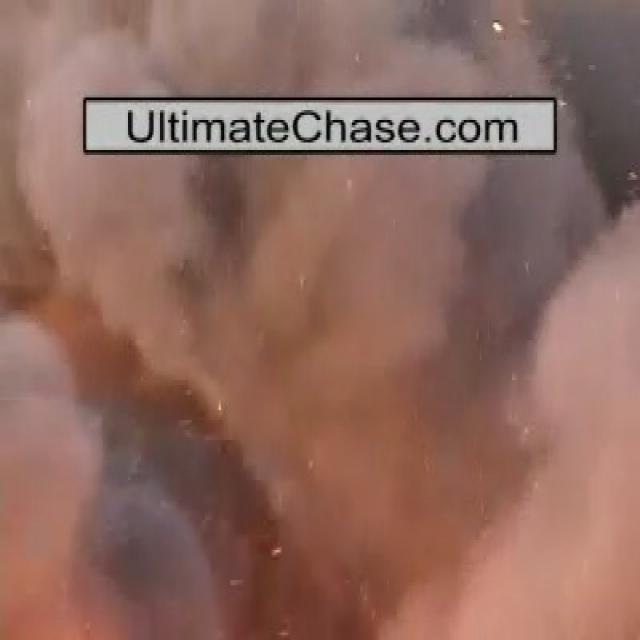smoke: (47, 166, 600, 523), (67, 5, 556, 95)
